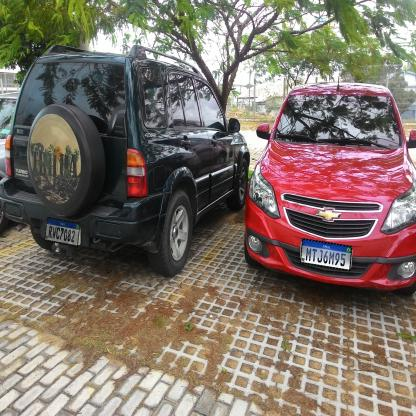PlacaM: (300, 238, 352, 271), (45, 217, 80, 247)
